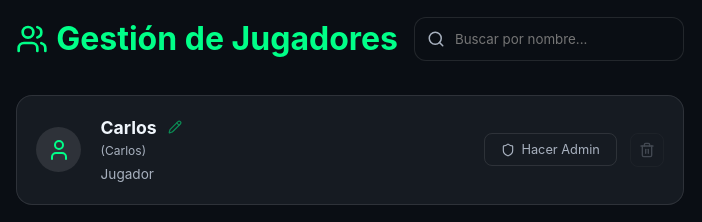
Users › shows "No se encontraron jugadores" when search has no results
This screenshot has width=702, height=222.
Expected: the text "Carlos" is shown, top-left (101, 115), bottom-right (185, 142)
Type "ZZZZZ" into the field with placeholder "Buscar por nombre..." at (549, 39), box top-left (414, 17), bottom-right (684, 61)
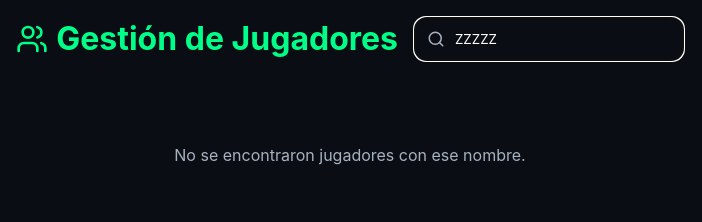
Expected: the text "No se encontraron jugadores con ese nombre." is shown, top-left (174, 145), bottom-right (526, 165)
